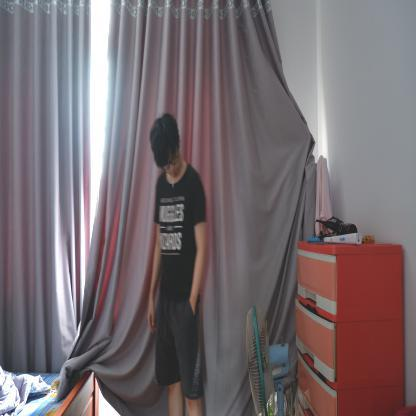cigarette: (172, 172, 174, 188)
person: (147, 112, 210, 415)
